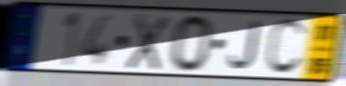1: (61, 11, 82, 68)
4: (78, 13, 113, 69)
C: (263, 16, 308, 78)
J: (227, 20, 262, 72)
O: (168, 13, 215, 74)
X: (124, 11, 172, 73)
